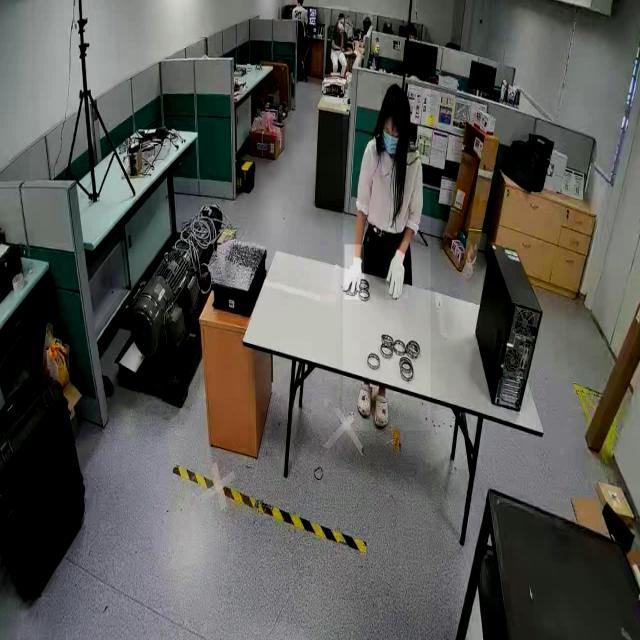face_mask: (379, 117, 409, 161), (337, 17, 345, 32)
hand_glove: (385, 242, 408, 298), (344, 244, 364, 300)
head_nohelmet: (381, 82, 412, 116), (363, 14, 373, 22), (338, 12, 346, 18)
person: (342, 75, 430, 431), (292, 0, 318, 75), (324, 6, 348, 84)
